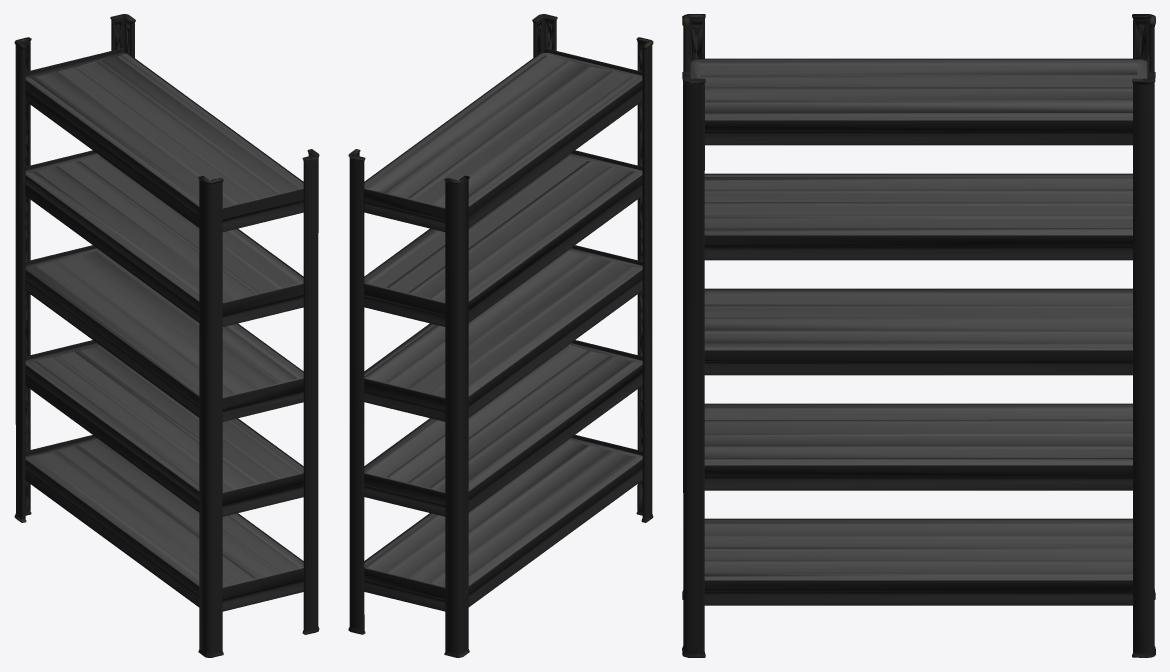
File: shelving.glb
The picture shows the model from 3 angles, left to right: view 1: azimuth 30°, elevation 25°; view 2: azimuth 150°, elevation 25°; view 3: azimuth 270°, elevation 25°; orthographic projection. The views are drawn at different scales.
Parts seen in each view (by area): view 1: shelf_01_mesh_00; view 2: shelf_01_mesh_00; view 3: shelf_01_mesh_00.
Part boxes in pixels (bbox=[...]): shelf_01_mesh_00: bbox=[14, 14, 319, 657]; shelf_01_mesh_00: bbox=[348, 14, 653, 657]; shelf_01_mesh_00: bbox=[682, 14, 1155, 657].
Bounding box in the file's own units: 0.512 × 2.03 × 1.51.
3 materials, 1 textured.
